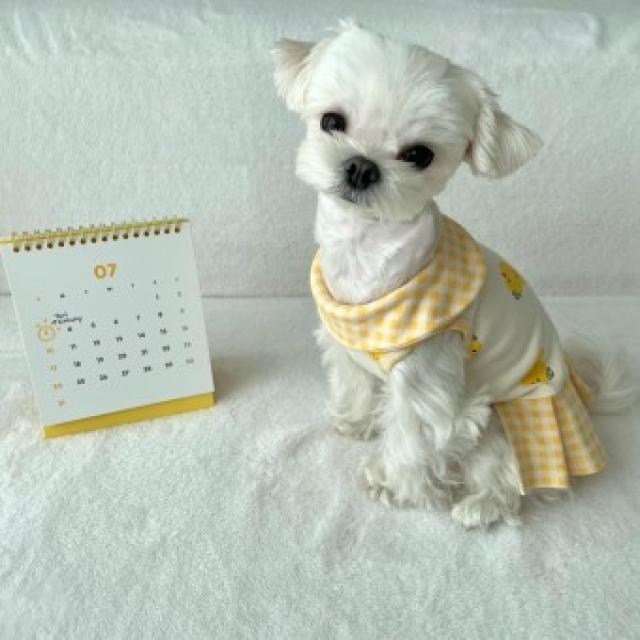cloth: (311, 217, 601, 490)
